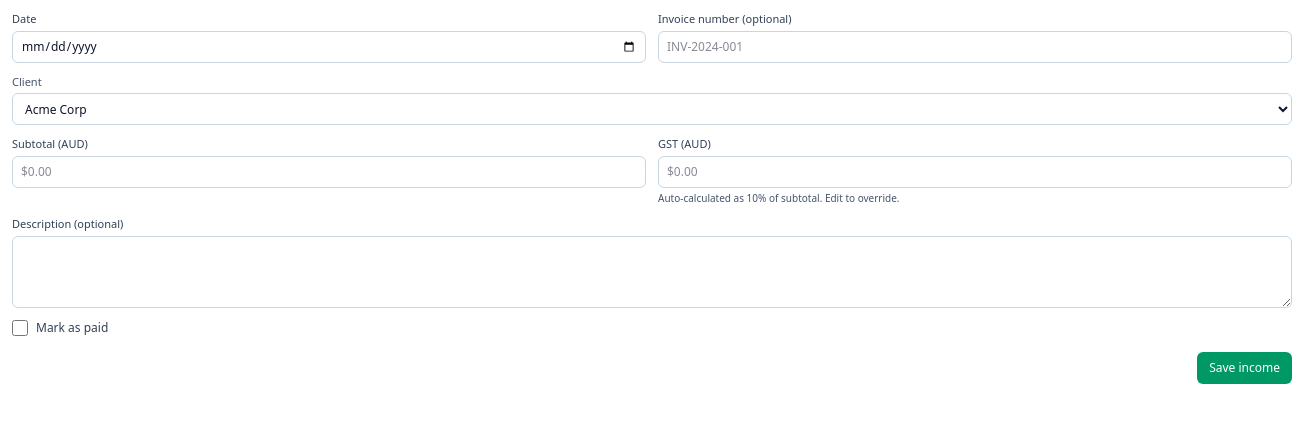
Test: IncomeForm › shows validation errors for required fields
Click the button "Save income" at (1245, 368), box [1197,352,1292,384]
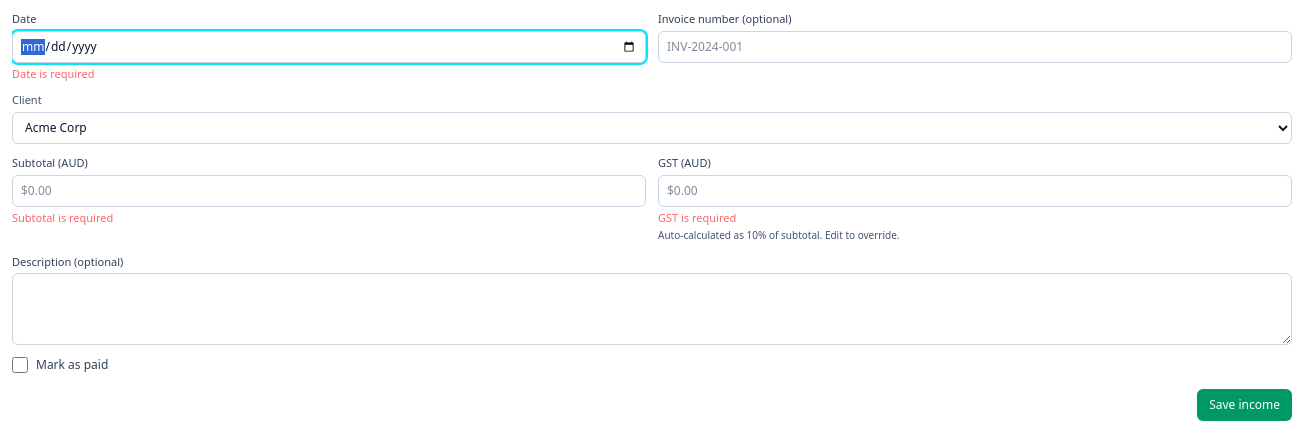
Expected: the text "Date is required" is shown, [12,66,94,81]
